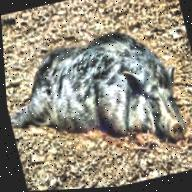boar: (1, 5, 192, 174)
